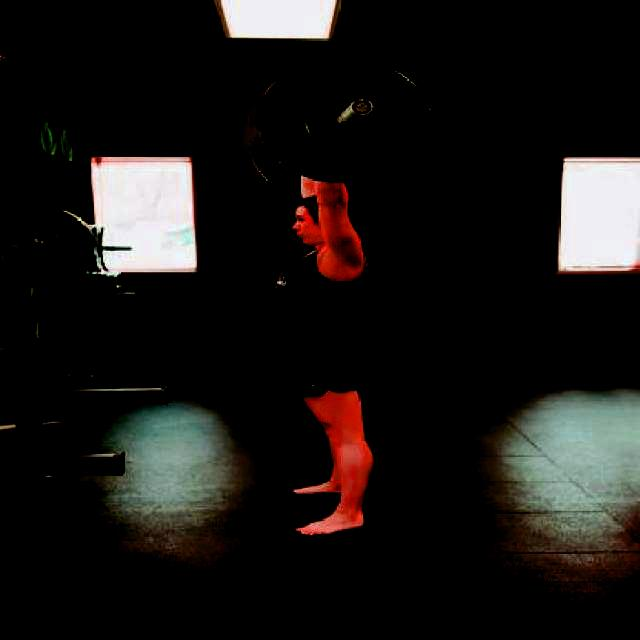barbell: (250, 63, 437, 191)
